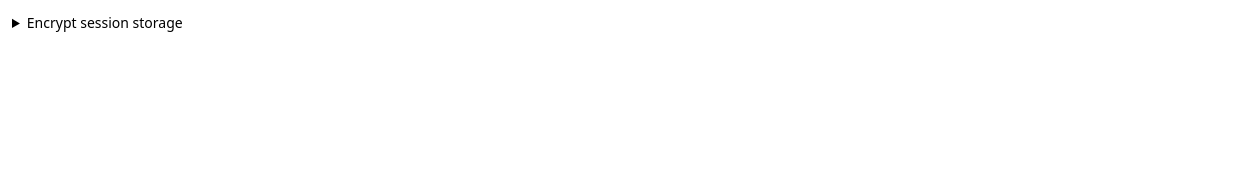
Scenario: requests cancellation and keeps the copy busy until native cleanup finishes
Later steps or results of the test are not shown.
Click the heading "Encrypt session storage".
click(105, 22)  # box 27,13 -> 183,32
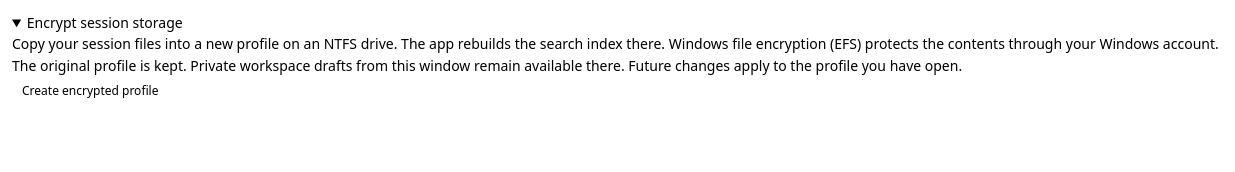
Click the button "Create encrypted profile".
click(90, 91)  # box 12,76 -> 168,106
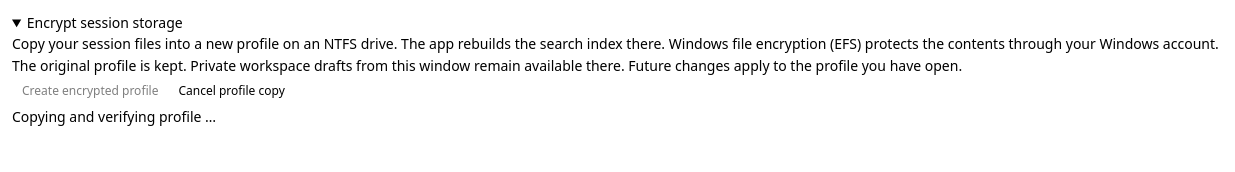
Click the button "Cancel profile copy".
click(232, 91)  # box 168,76 -> 295,106
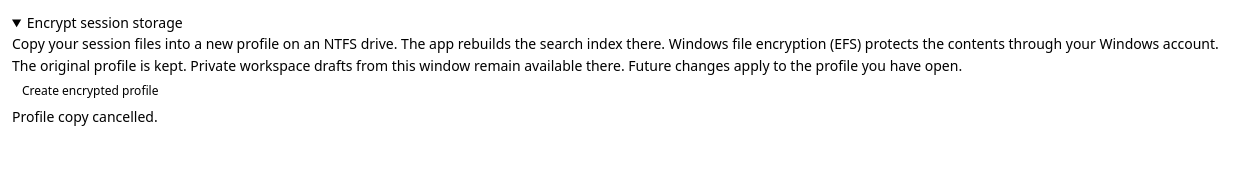
Now the message reads "Profile copy cancelled.", box 12,107 -> 158,126
Now the button "Create encrypted profile" is enabled, box 12,76 -> 168,106
Now the button "Cancel profile copy" is gone
